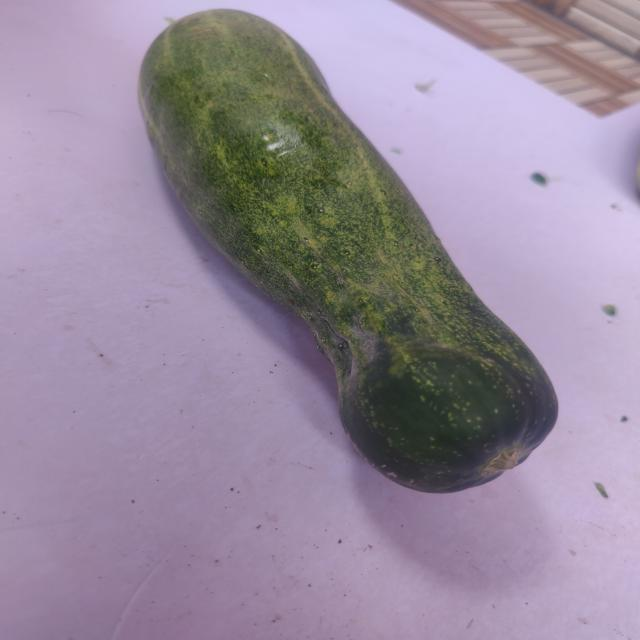Cucumber: (132, 4, 568, 500)
